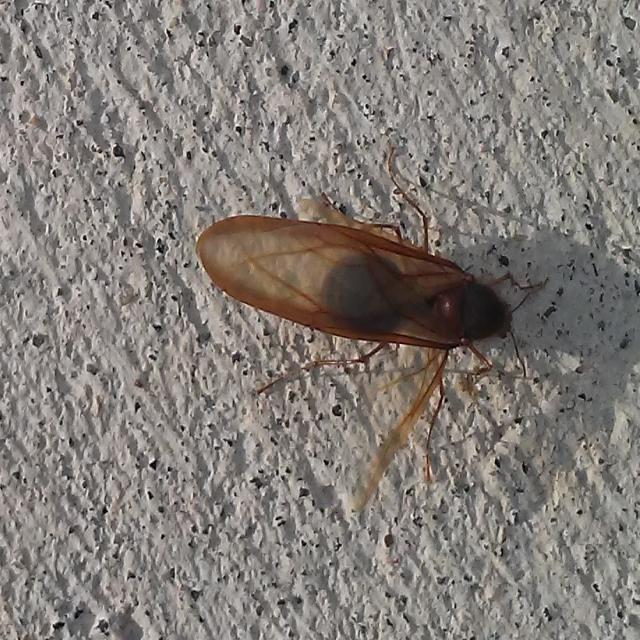Alive-Male-Alate: (195, 146, 549, 513)
